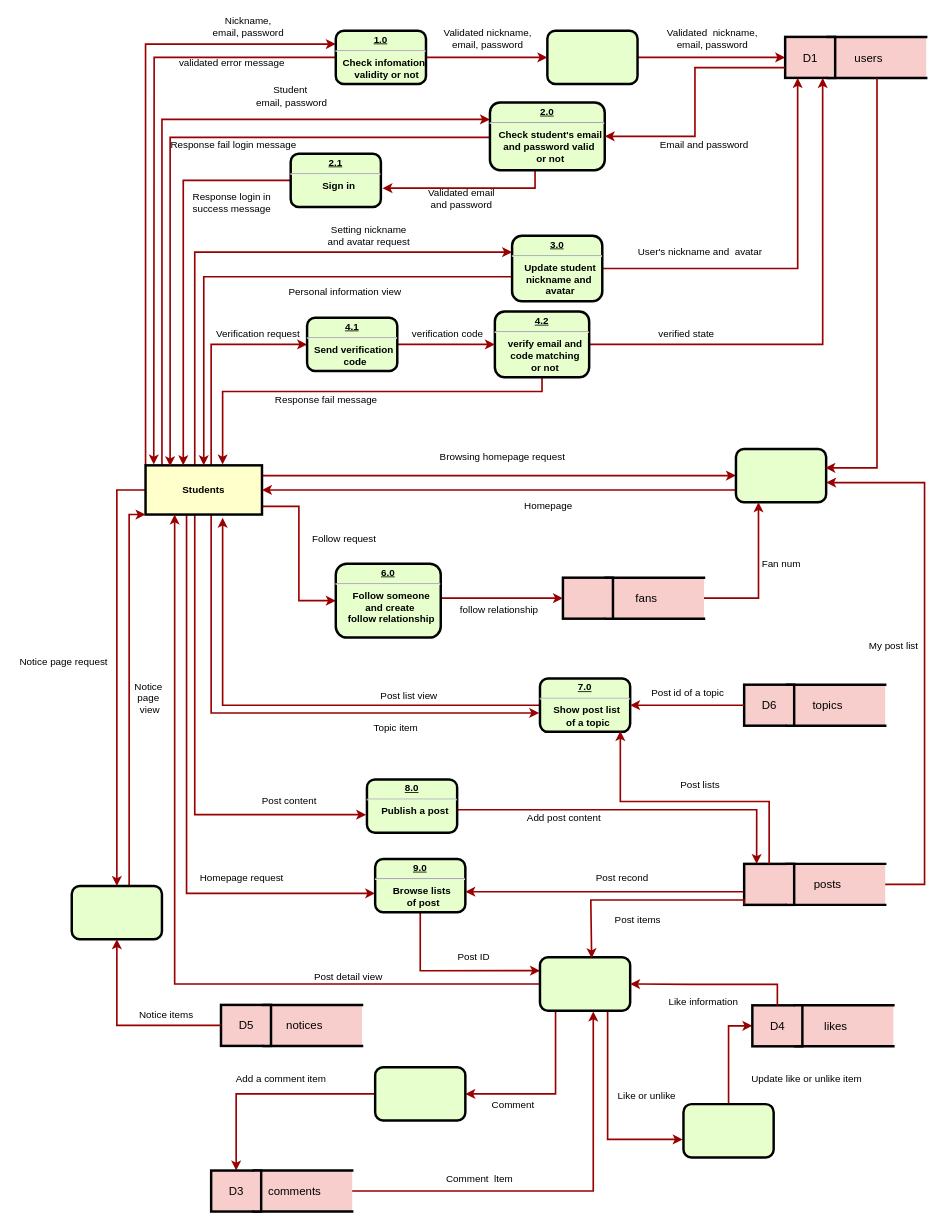
Image size: 945x1227. Some labels were removed from this diagram. The shapes that lost their labels are listed below. From the top down, each one's centre as x and y in pixels, then its label:
At point 592,57: "1.1 Sign up".
At point 780,475: "5.0 Query homepage".
At point 587,598: "D7".
At point 769,884: "D2".
At point 116,912: "11.0 Show notice information".
At point 584,983: "10.0 View Post Detail".
At point 420,1093: "10.1 Publish a comment".
At point 728,1130: "10.2 Like or unlike a post".
